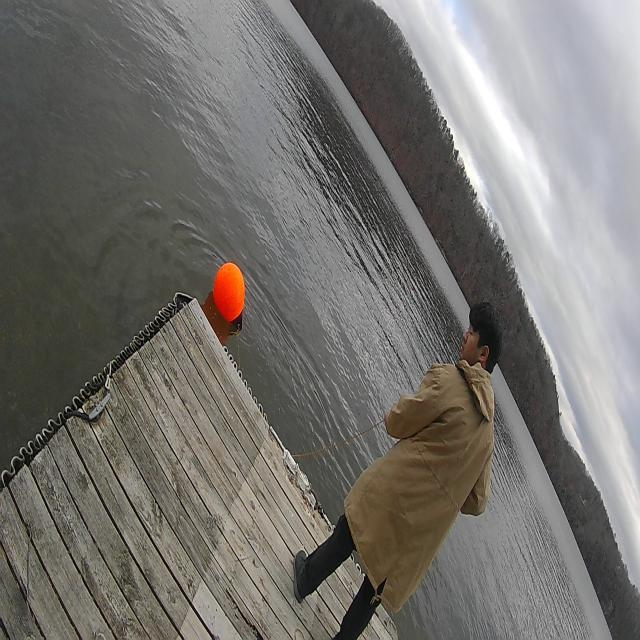Buoy: (212, 255, 250, 335)
